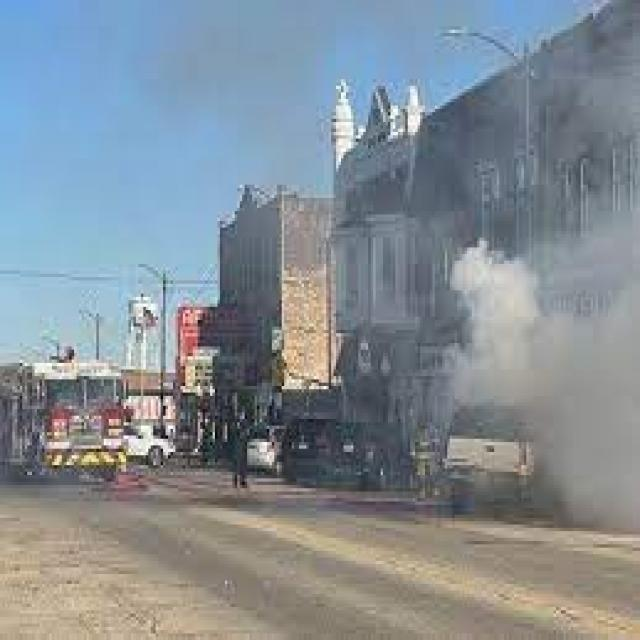smoke: (445, 238, 640, 531)
